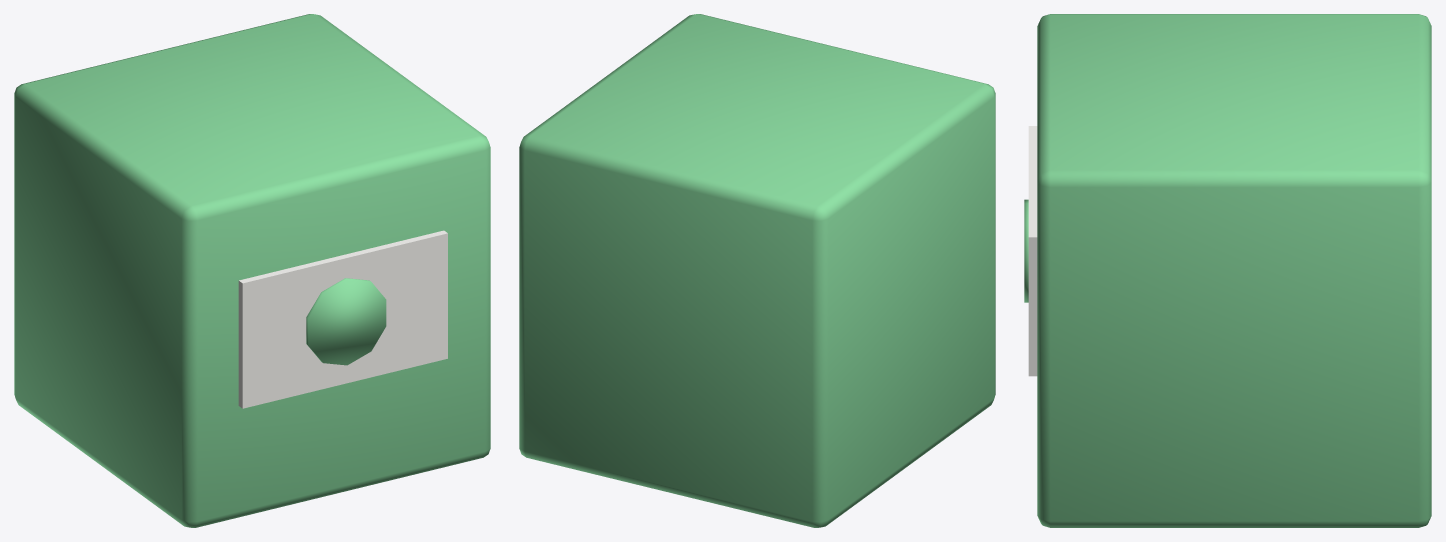
Rendered from Prop_CendolCrate.fbx.
3 views of the same model, side by side, from view 1: azimuth 30°, elevation 25°; view 2: azimuth 150°, elevation 25°; view 3: azimuth 270°, elevation 25° (orthographic). The views are drawn at different scales.
Parts seen in each view (by area): view 1: Prop_CendolCrate; view 2: Prop_CendolCrate; view 3: Prop_CendolCrate.
Part boxes in pixels (x1,y1,x2,y2): Prop_CendolCrate: [14, 14, 490, 527]; Prop_CendolCrate: [519, 14, 995, 527]; Prop_CendolCrate: [1024, 14, 1431, 527].
Bounding box in the file's own units: 0.9 × 0.9 × 0.93.
